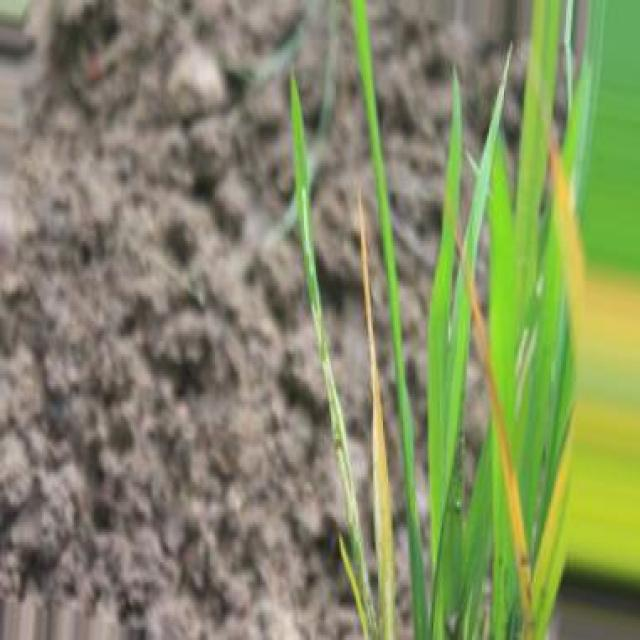Rice Tungro: (359, 194, 395, 638), (503, 452, 528, 561)
